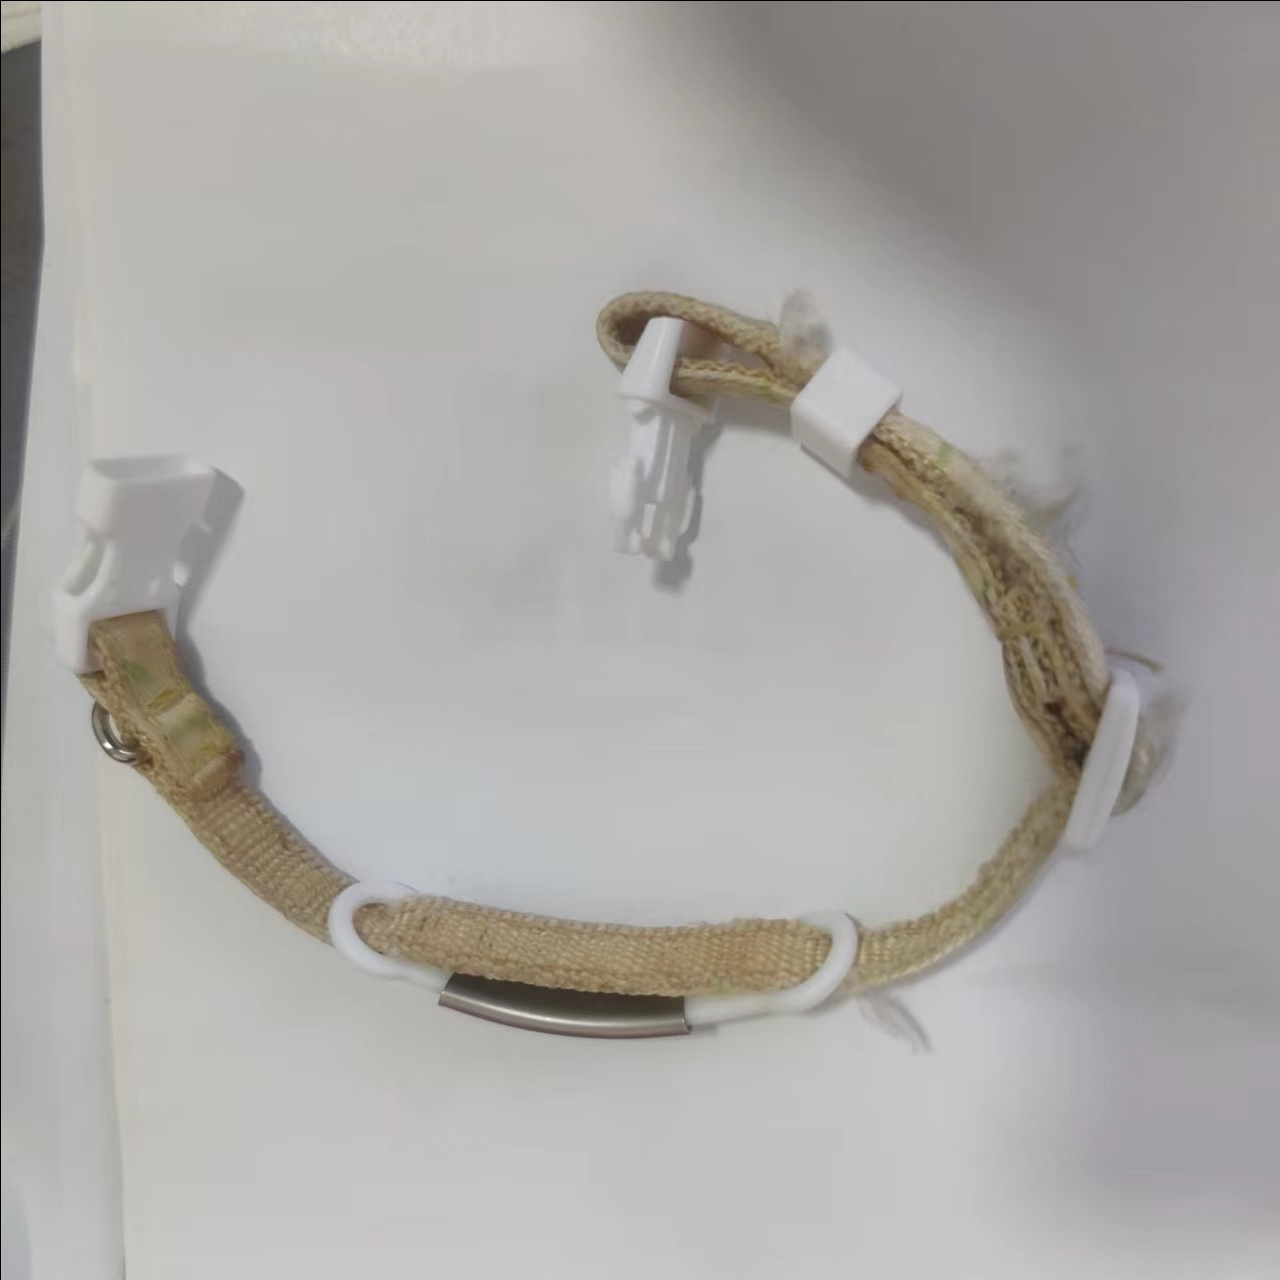9/可回收垃圾/绳子: (52, 290, 1158, 1039)
